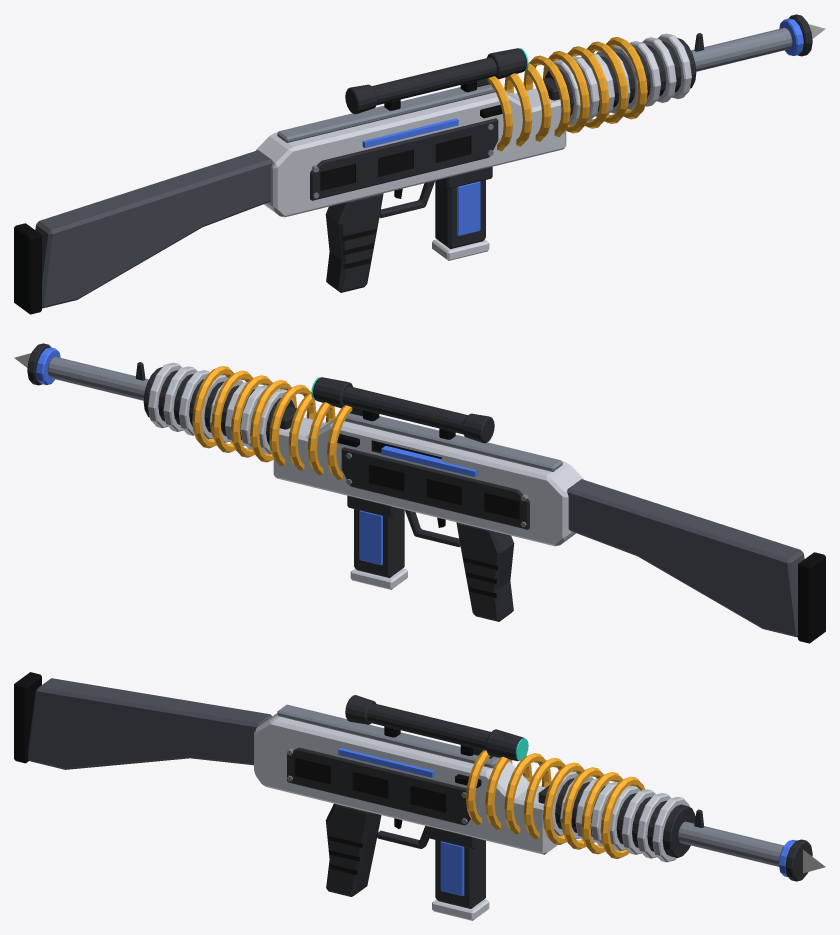
Rendered from plasma_rifle42.obj.
3 views of the same model, one above another, from view 1: azimuth 30°, elevation 25°; view 2: azimuth 150°, elevation 25°; view 3: azimuth 330°, elevation 25° (orthographic).
Visible parts, largest first — view 1: body, barrel, mag; view 2: body, barrel, mag; view 3: body, barrel, mag.
Boxes of the visible parts, x1,y1,x2,y2 form: body: (14, 37, 647, 314); barrel: (545, 14, 812, 125); mag: (432, 180, 489, 260); body: (192, 366, 825, 643); barrel: (27, 343, 294, 454); mag: (350, 509, 407, 589); body: (14, 672, 644, 896); barrel: (552, 771, 812, 881); mag: (432, 840, 489, 920).
Size of the model in its own units: 0.837 by 0.1944 by 0.0764.
